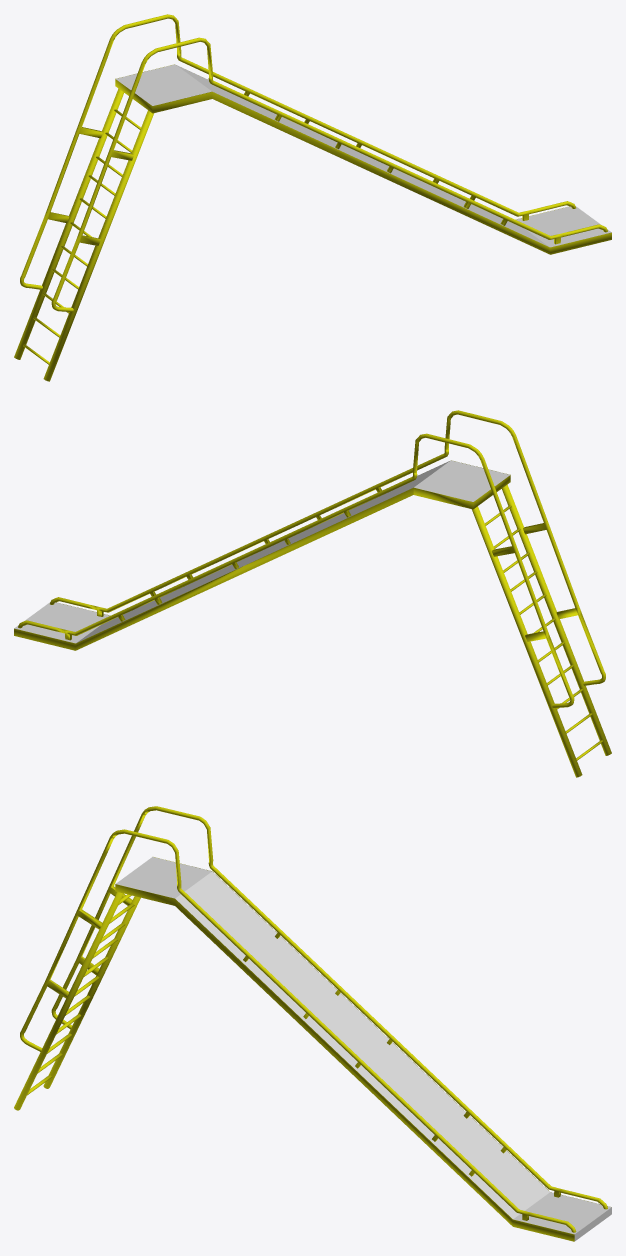
The model's file is entertainment.glb.
3 renders of one model, top to bottom at view 1: azimuth 30°, elevation 25°; view 2: azimuth 150°, elevation 25°; view 3: azimuth 330°, elevation 25°, orthographic.
Parts seen in each view (by area): view 1: ZOOLA_SLIDE.001_Cube.017, SLIDE_Cube.015; view 2: ZOOLA_SLIDE.001_Cube.017, SLIDE_Cube.015; view 3: SLIDE_Cube.015, ZOOLA_SLIDE.001_Cube.017.
Part boxes in pixels (x1=…): ZOOLA_SLIDE.001_Cube.017: x1=14, y1=14, x2=611, y2=381; SLIDE_Cube.015: x1=116, y1=64, x2=611, y2=247; ZOOLA_SLIDE.001_Cube.017: x1=14, y1=410, x2=611, y2=777; SLIDE_Cube.015: x1=14, y1=460, x2=509, y2=643; SLIDE_Cube.015: x1=116, y1=857, x2=611, y2=1241; ZOOLA_SLIDE.001_Cube.017: x1=14, y1=806, x2=607, y2=1241.
Size of the model in its own units: 9.6 by 5 by 1.11.
